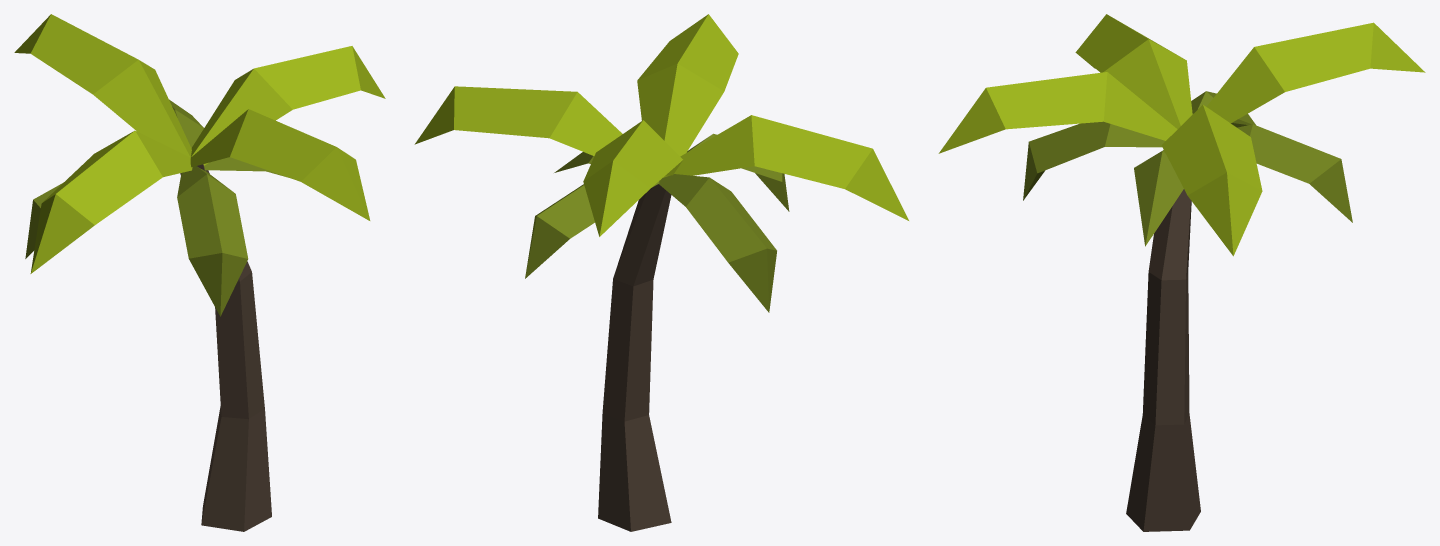
File: TB_D_Env_Tree_PalmD_A.FBX
3 views of the same model, side by side, from view 1: azimuth 30°, elevation 25°; view 2: azimuth 150°, elevation 25°; view 3: azimuth 270°, elevation 25° (orthographic). The views are drawn at different scales.
Parts seen in each view (by area): view 1: TB_D_Env_Tree_PalmD_A; view 2: TB_D_Env_Tree_PalmD_A; view 3: TB_D_Env_Tree_PalmD_A.
Boxes of the visible parts, <box> form: TB_D_Env_Tree_PalmD_A: <box>14,14,385,531</box>; TB_D_Env_Tree_PalmD_A: <box>414,14,908,531</box>; TB_D_Env_Tree_PalmD_A: <box>938,14,1425,531</box>.
Bounding box in the file's own units: 5.27 × 5.31 × 5.15.
